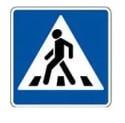road_sign: (9, 5, 114, 109)
